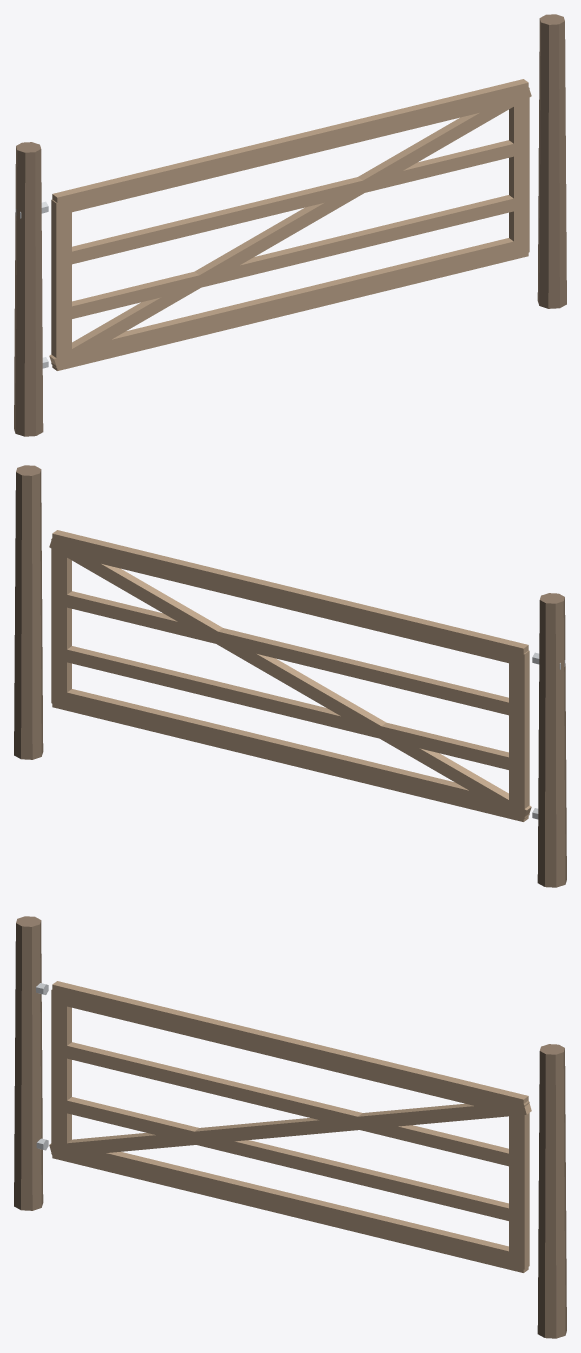
File: post-and-rail-fence-gate.glb
The picture shows the model from 3 angles, top to bottom: view 1: azimuth 30°, elevation 25°; view 2: azimuth 150°, elevation 25°; view 3: azimuth 330°, elevation 25°; orthographic projection.
Parts seen in each view (by area): view 1: gate, fence-rail-gate; view 2: gate, fence-rail-gate; view 3: gate, fence-rail-gate.
Part boxes in pixels (x1,y1,x2,y2): gate: (49, 79, 531, 370); fence-rail-gate: (14, 14, 566, 436); gate: (49, 530, 531, 821); fence-rail-gate: (14, 465, 566, 887); gate: (49, 981, 531, 1272); fence-rail-gate: (14, 916, 566, 1338).
Bounding box in the file's own units: 3.15 × 1.55 × 0.15.
